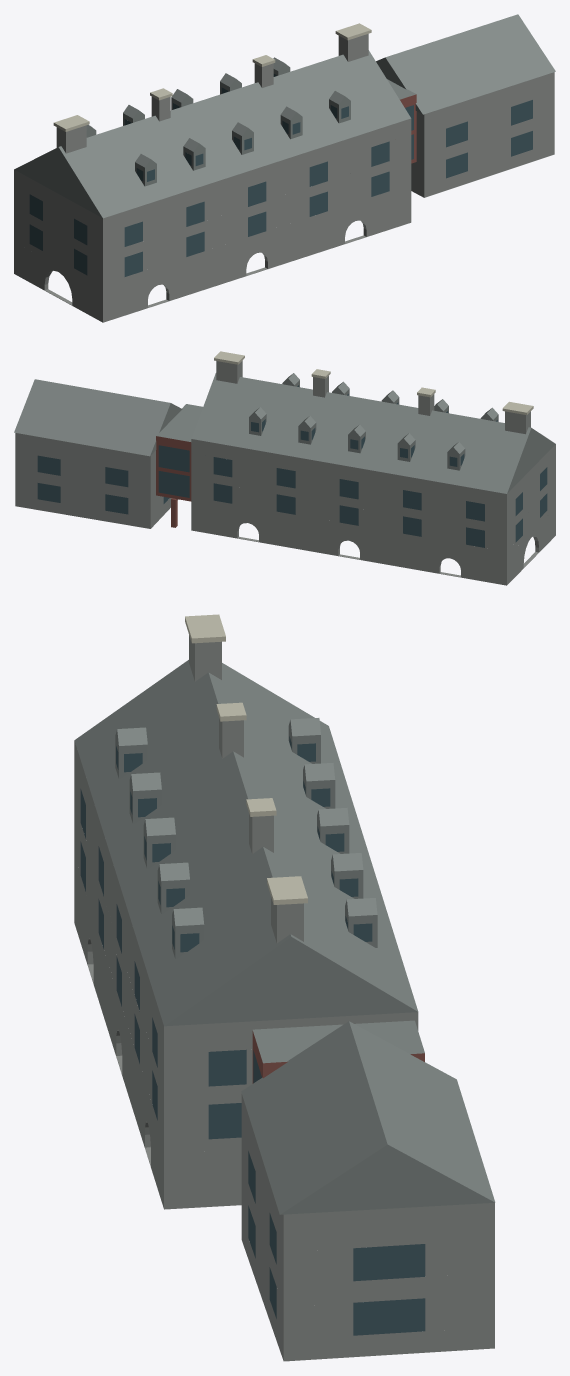
File: moulin-neuf-terrebonne-far.glb
3 views of the same model, one above another, from view 1: azimuth 30°, elevation 25°; view 2: azimuth 150°, elevation 25°; view 3: azimuth 270°, elevation 25° (orthographic). The views are drawn at different scales.
Parts seen in each view (by area): view 1: moulin-neuf-terrebonne-0-stone, moulin-neuf-terrebonne-0-roof, moulin-neuf-terrebonne-0-glass, moulin-neuf-terrebonne-0-trim; view 2: moulin-neuf-terrebonne-0-stone, moulin-neuf-terrebonne-0-roof, moulin-neuf-terrebonne-0-glass, moulin-neuf-terrebonne-0-red, moulin-neuf-terrebonne-0-trim; view 3: moulin-neuf-terrebonne-0-roof, moulin-neuf-terrebonne-0-stone, moulin-neuf-terrebonne-0-glass, moulin-neuf-terrebonne-0-trim.
Part boxes in pixels (box(x1,y1,x2,y2)): moulin-neuf-terrebonne-0-stone: box(14, 34, 554, 322); moulin-neuf-terrebonne-0-roof: box(14, 14, 555, 218); moulin-neuf-terrebonne-0-glass: box(29, 74, 532, 276); moulin-neuf-terrebonne-0-trim: box(53, 23, 371, 131); moulin-neuf-terrebonne-0-stone: box(15, 361, 555, 585); moulin-neuf-terrebonne-0-roof: box(14, 373, 555, 493); moulin-neuf-terrebonne-0-glass: box(37, 385, 547, 547); moulin-neuf-terrebonne-0-red: box(156, 436, 191, 527); moulin-neuf-terrebonne-0-trim: box(214, 351, 533, 414); moulin-neuf-terrebonne-0-roof: box(74, 660, 495, 1214); moulin-neuf-terrebonne-0-stone: box(74, 635, 494, 1361); moulin-neuf-terrebonne-0-glass: box(80, 736, 425, 1335); moulin-neuf-terrebonne-0-trim: box(185, 614, 307, 904).
Bounding box in the file's own units: 58.81 × 18.3 × 23.12.
